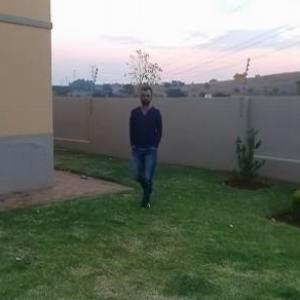follow: (124, 84, 164, 202)
